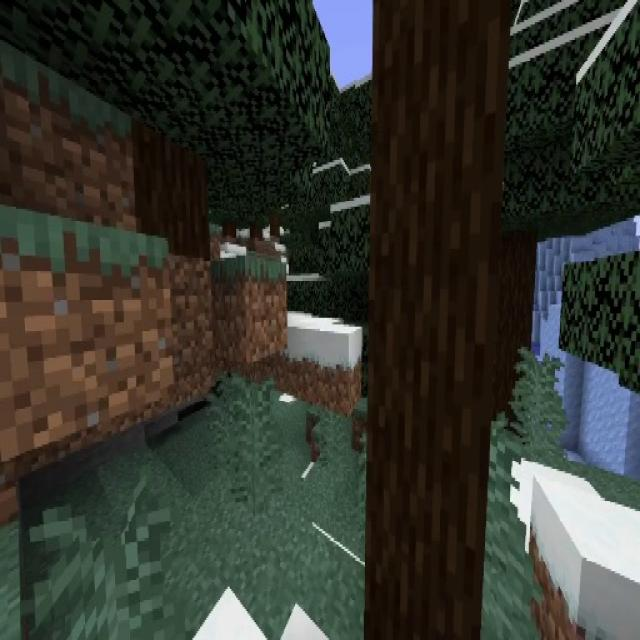spruce_log: (365, 2, 504, 640), (132, 126, 211, 262), (489, 232, 538, 430)
